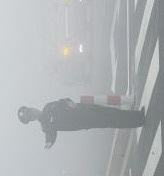person: (18, 98, 147, 151)
